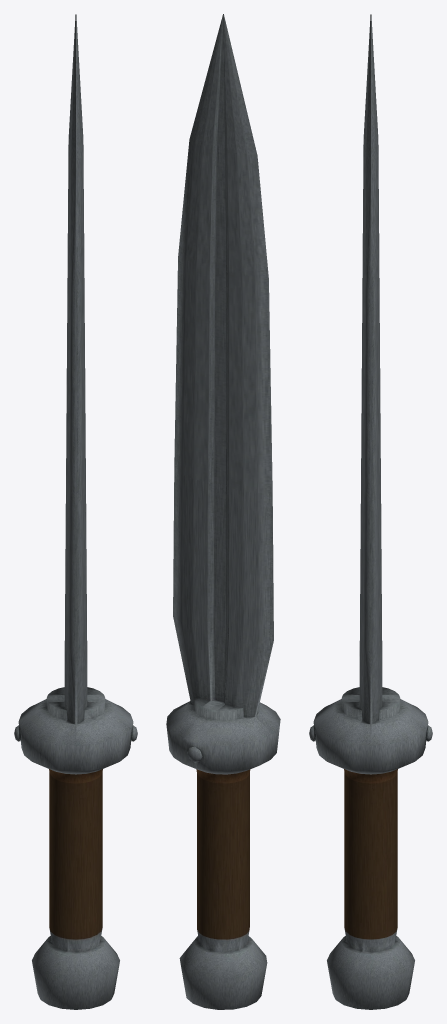
Rendered from gladius-plain.glb.
3 renders of one model, left to right at view 1: azimuth 90°, elevation 25°; view 2: azimuth 150°, elevation 25°; view 3: azimuth 270°, elevation 25°, orthographic.
Parts seen in each view (by area): view 1: gladius-plain; view 2: gladius-plain; view 3: gladius-plain.
Part boxes in pixels (x1,y1,x2,y2): gladius-plain: (14,14,137,1009); gladius-plain: (166,14,280,1009); gladius-plain: (309,14,432,1009).
Bounding box in the file's own units: 0.0788 × 0.74 × 0.084.
Materials: 1 (1 with a texture image).
